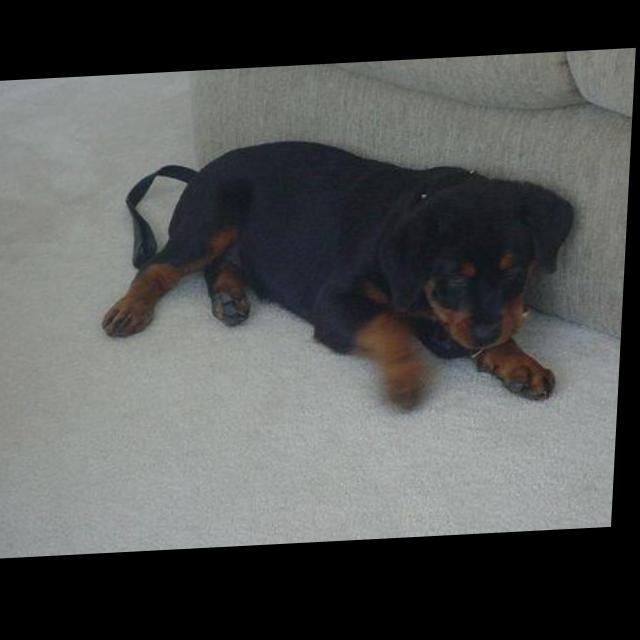rottweiler: (101, 128, 585, 429)
